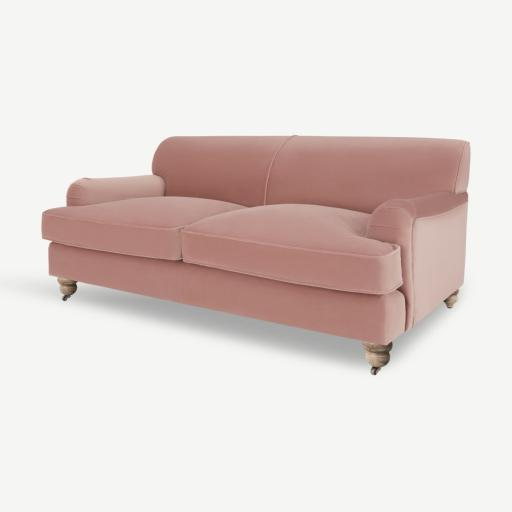back_cushion: (152, 136, 470, 213)
base: (49, 244, 404, 342)
left_arm: (367, 193, 467, 330)
legs: (363, 342, 392, 375), (58, 278, 76, 301)
right_arm: (67, 175, 164, 206)
seat_cushion: (43, 197, 401, 294)
two-seater: (0, 0, 511, 512)
